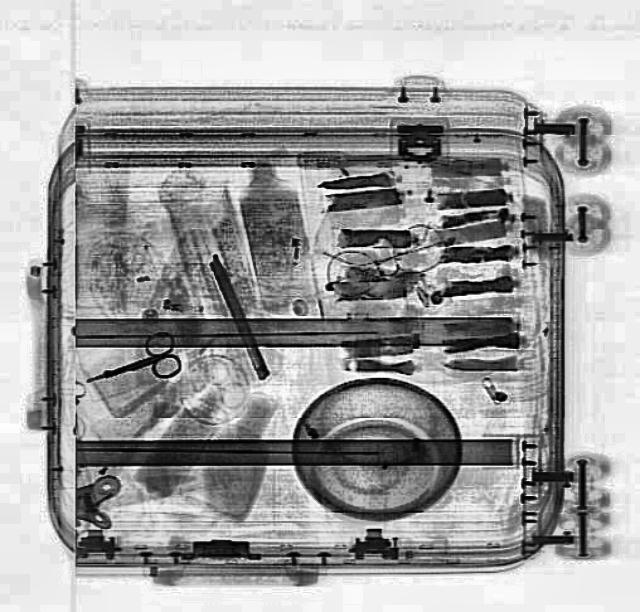Scissors: (75, 328, 187, 400)
